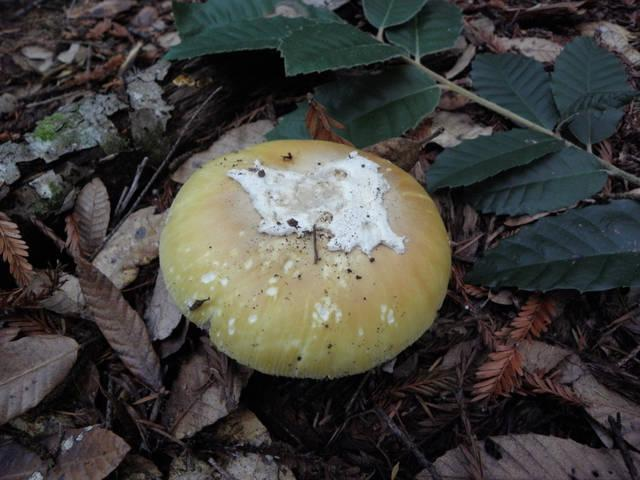Edible Mushroom: (157, 137, 453, 380)
